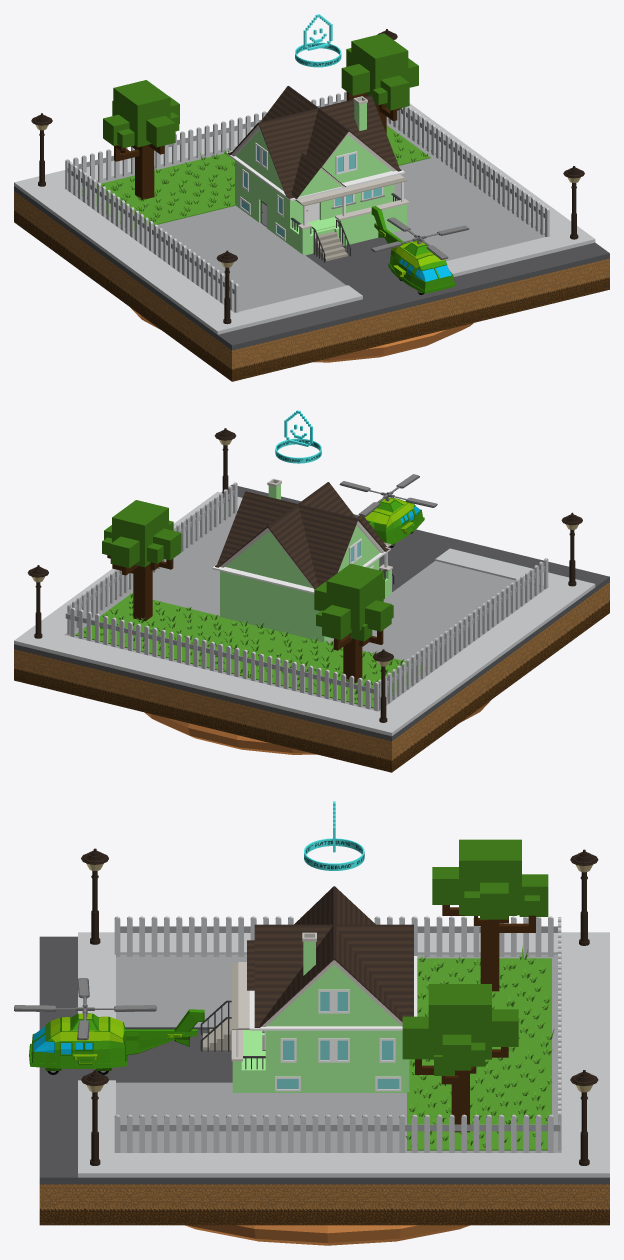
The picture shows the model from 3 angles, top to bottom: view 1: azimuth 30°, elevation 25°; view 2: azimuth 150°, elevation 25°; view 3: azimuth 270°, elevation 25°; orthographic projection. The views are drawn at different scales.
Visible parts, largest first — view 1: Cube.004, Cube.274, VEHICLES_HELICOPTER, UNDERGROUND_PIZZA, TYPE_PREMIUM; view 2: Cube.004, Cube.274, VEHICLES_HELICOPTER, UNDERGROUND_PIZZA, TYPE_PREMIUM; view 3: Cube.004, Cube.274, VEHICLES_HELICOPTER, UNDERGROUND_PIZZA, TYPE_PREMIUM.
Part boxes in pixels (x1,y1,x2,y2): Cube.004: (14,29,609,381); Cube.274: (226,86,409,262); VEHICLES_HELICOPTER: (371,206,468,294); UNDERGROUND_PIZZA: (131,308,473,362); TYPE_PREMIUM: (295,14,341,67); Cube.004: (14,428,609,772); Cube.274: (212,478,394,642); VEHICLES_HELICOPTER: (339,474,437,547); UNDERGROUND_PIZZA: (144,700,490,754); TYPE_PREMIUM: (275,410,321,463); Cube.004: (39,839,609,1225); Cube.274: (200,886,417,1092); VEHICLES_HELICOPTER: (14,978,204,1074); UNDERGROUND_PIZZA: (185,1225,469,1245); TYPE_PREMIUM: (304,801,364,870).
Size of the model in its own units: 4000 by 2678 by 4179.
Materials: 34 (4 with a texture image).
